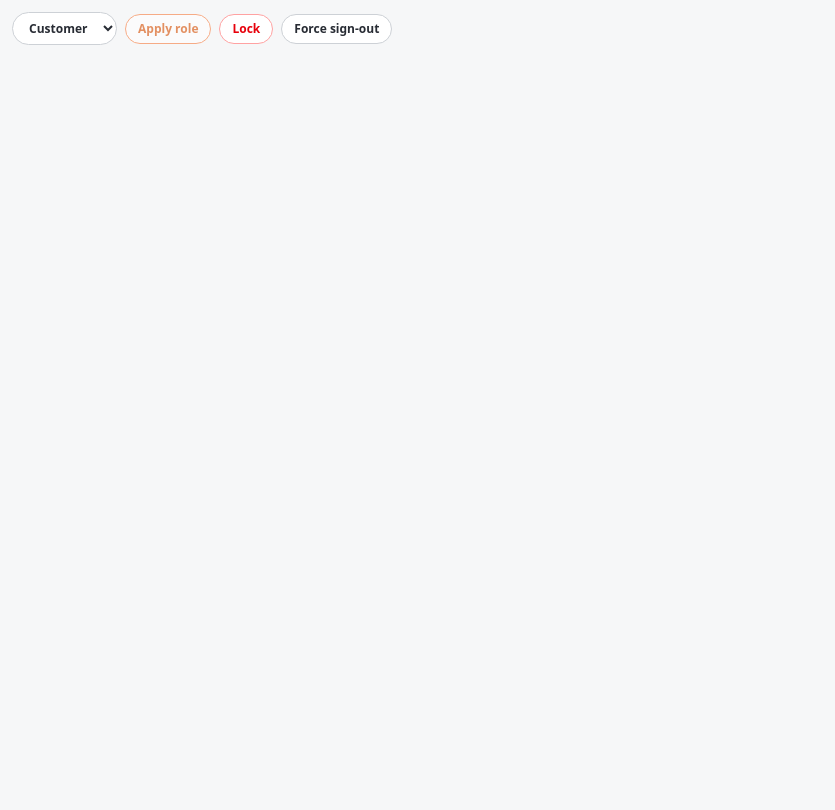
Test case: AdminUserActions › surfaces the server error message on a failed role change
Select "Admin" in the dropdown named "Role" at point(64, 28), box [12,12,117,45]
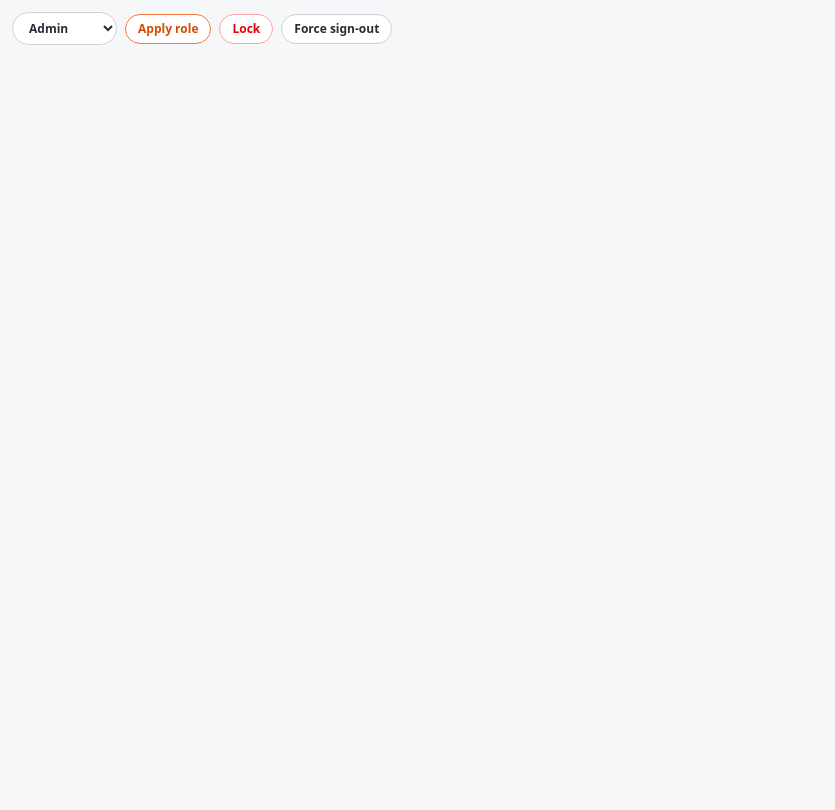
Click the button "Apply role" at point(168, 28), box [125,14,212,44]
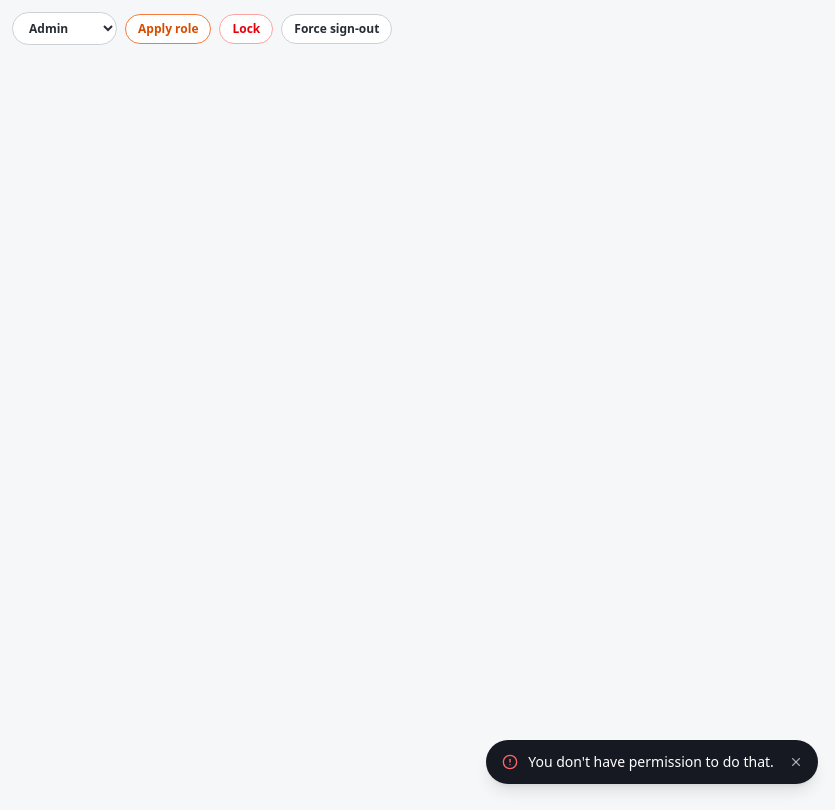
Now the message reads "You don't have permission to do that.", box [528,752,774,771]
